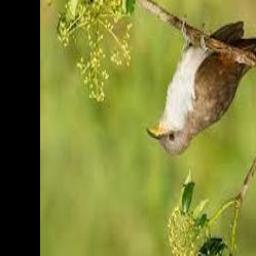Cuckoo: (146, 21, 256, 157)
